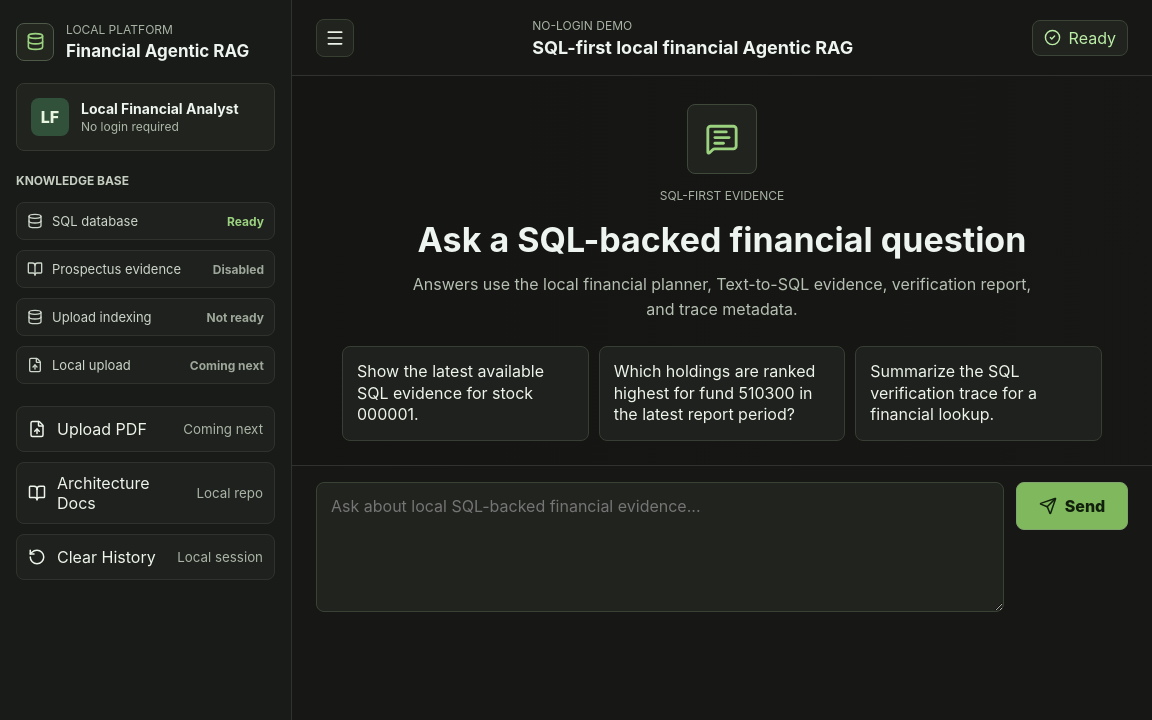
local financial platform UI › submits a prompt and renders answer, evidence, verification, and trace without confidence
In the text box named "Financial question": (660,547) x1=316 y1=482 x2=1004 y2=612, type "Show revenue"
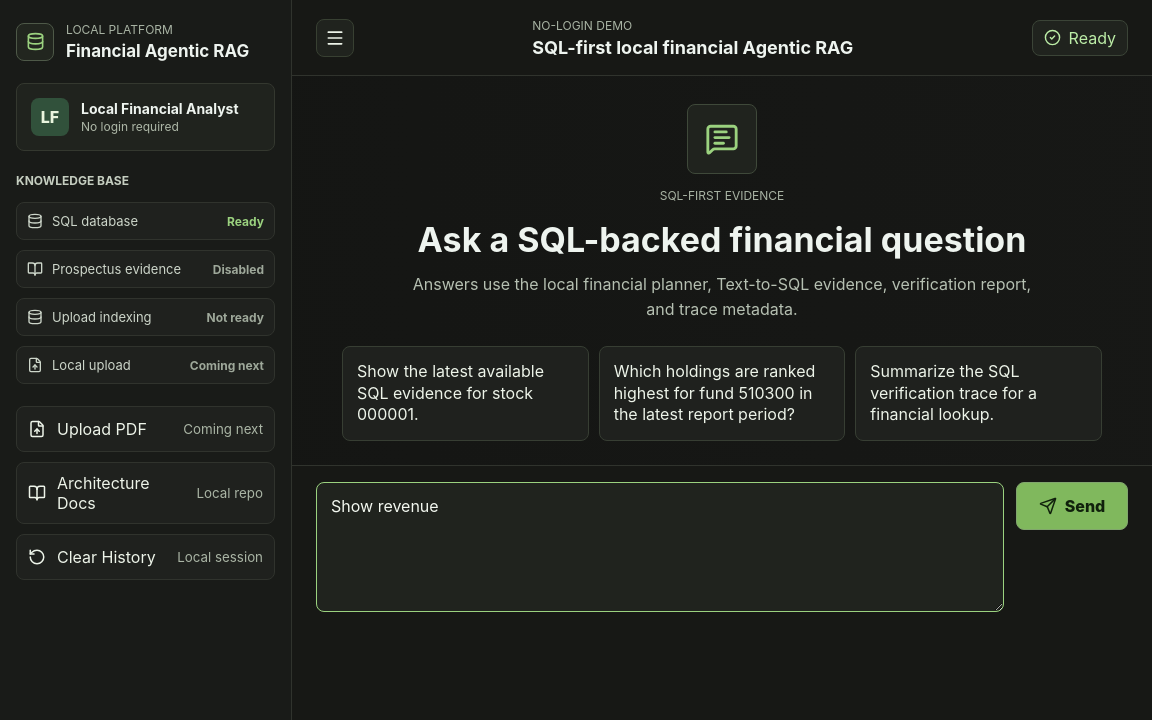
Click the button with aria-label "Send question": (1072,506) x1=1016 y1=482 x2=1128 y2=530
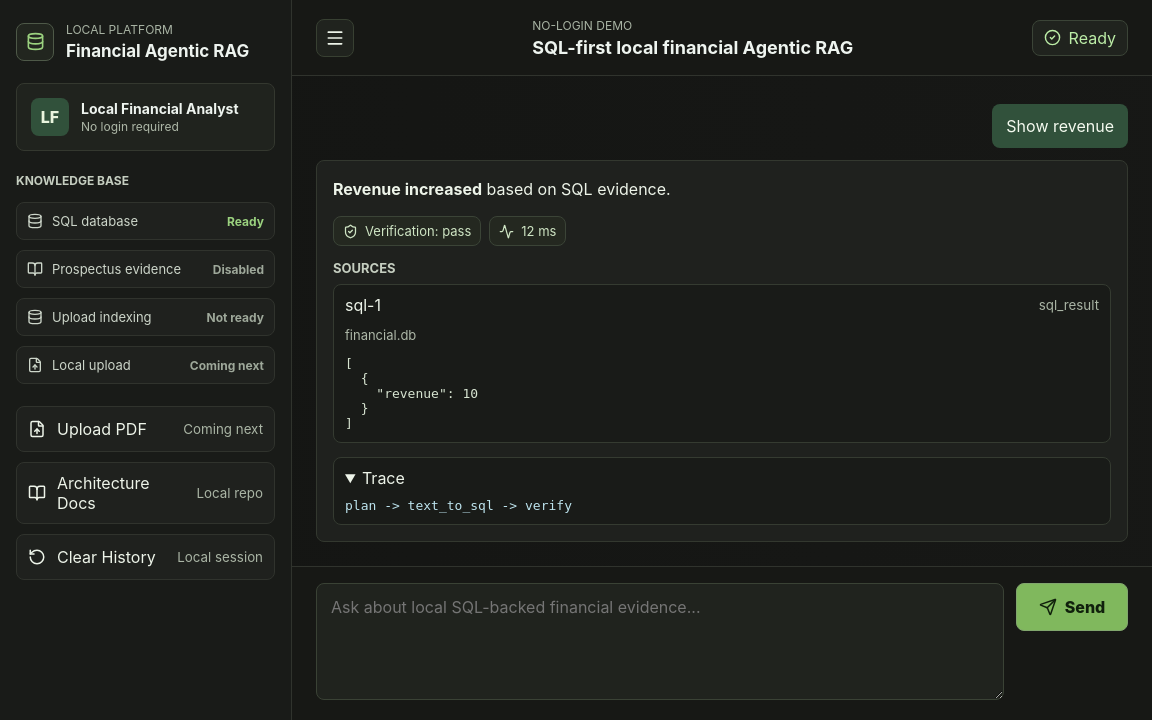
Result: the text "Show revenue" is shown at x1=992 y1=104 x2=1128 y2=148
Result: the text "Revenue increased" is shown at x1=333 y1=179 x2=482 y2=199
Result: the text "Verification: pass" is shown at x1=365 y1=223 x2=471 y2=239
